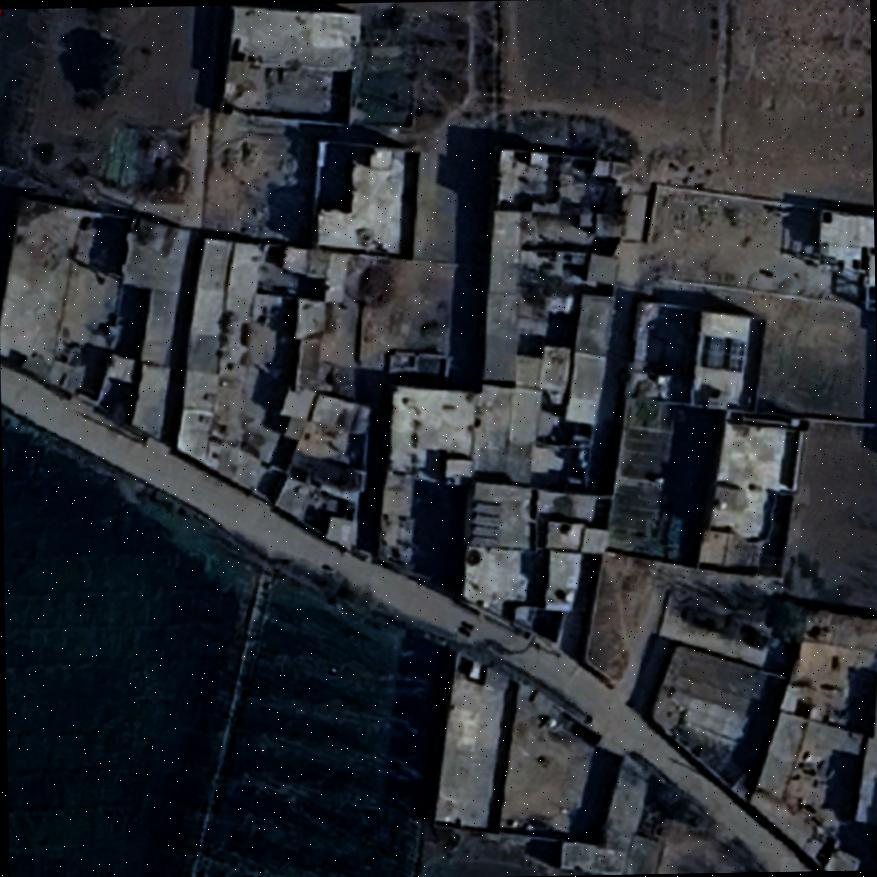Solarpanel: (468, 500, 504, 548), (699, 332, 728, 370), (722, 335, 747, 371)
